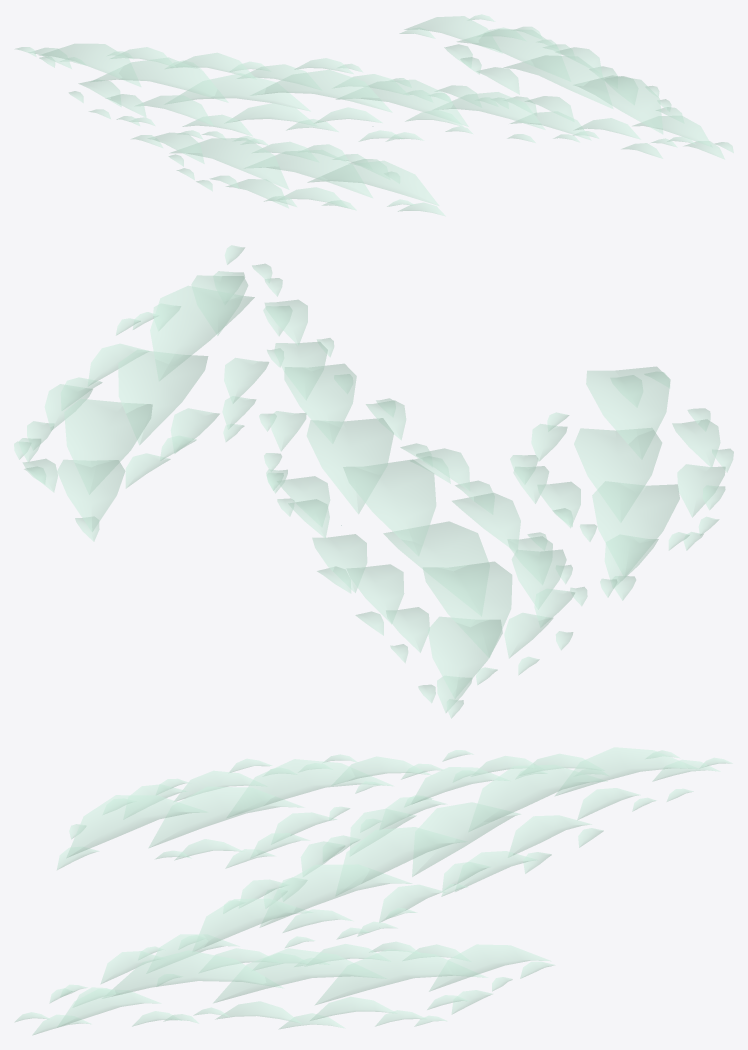
File: calm-hero-secuencia.glb
3 renders of one model, top to bottom at view 1: azimuth 30°, elevation 25°; view 2: azimuth 150°, elevation 25°; view 3: azimuth 270°, elevation 25°, orthographic. The views are drawn at different scales.
Parts seen in each view (by area): view 1: hero_hojas; view 2: hero_hojas; view 3: hero_hojas.
Part boxes in pixels (<box>): hero_hojas: <box>15,14,733,216</box>; hero_hojas: <box>14,245,733,718</box>; hero_hojas: <box>14,747,732,1035</box>.
Bounding box in the file's own units: 1.69 × 0.1942 × 1.94.
